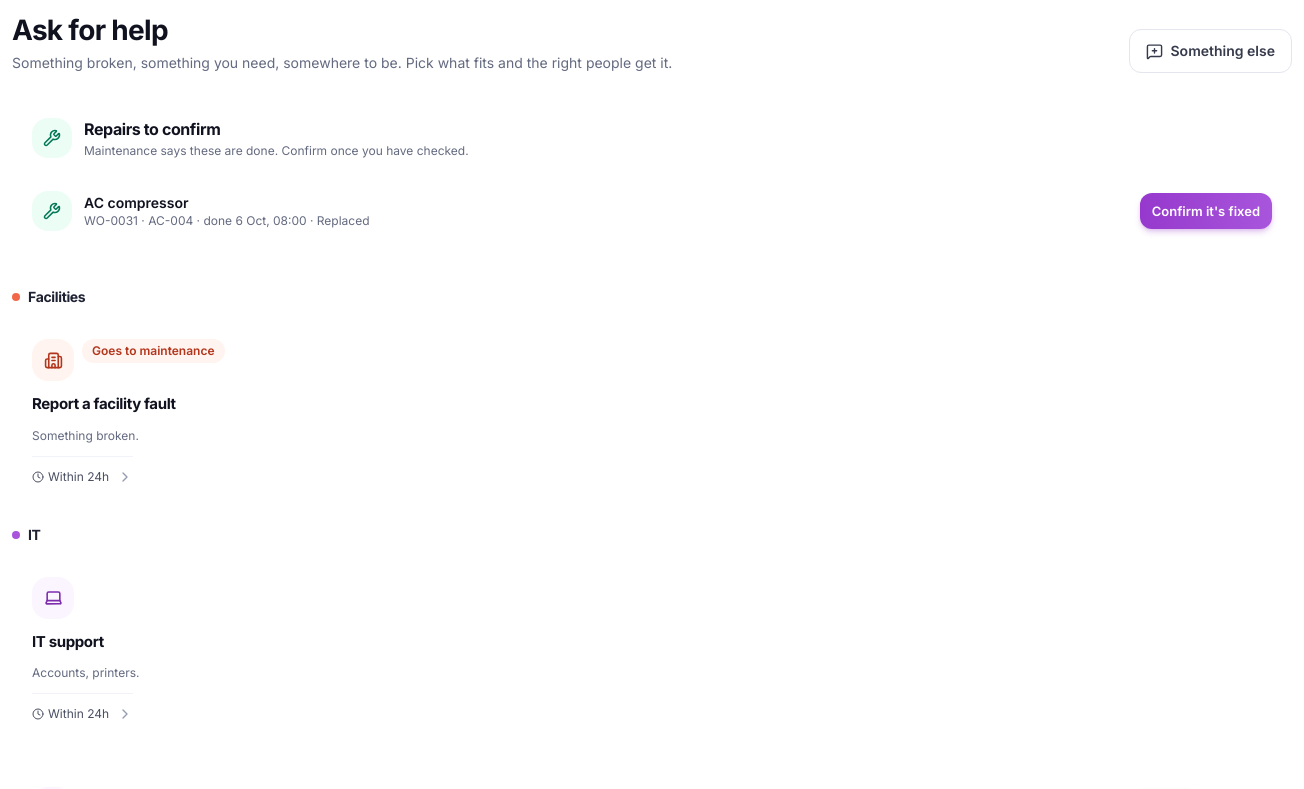
Test: MyHelp › puts repairs waiting for me first, and confirms one
What coordinates should you click on to do the following:
click the button "Confirm it's fixed"
I would click on:
 (1206, 211)
Its box is [1140, 193, 1272, 229].
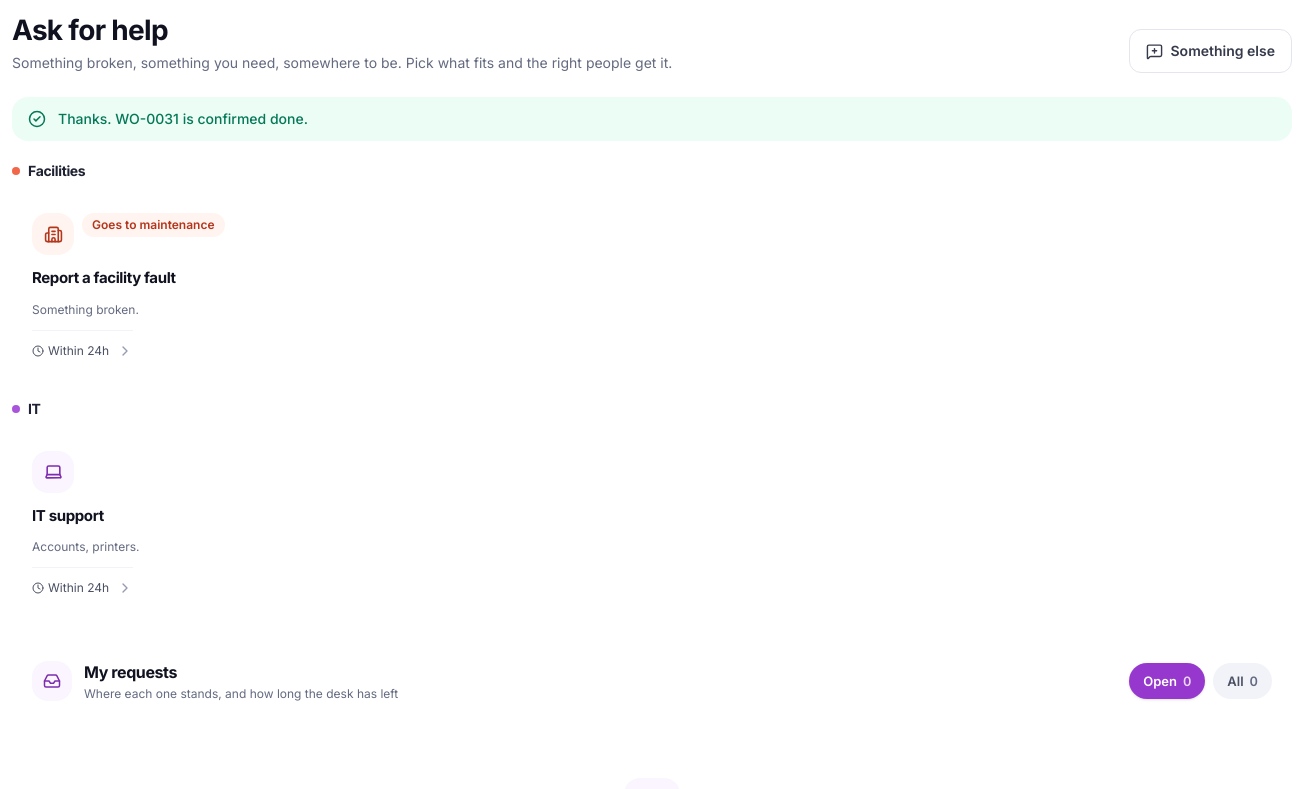
Expected: the heading "Repairs to confirm" is gone
